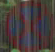No Stopping: (4, 2, 53, 51)
